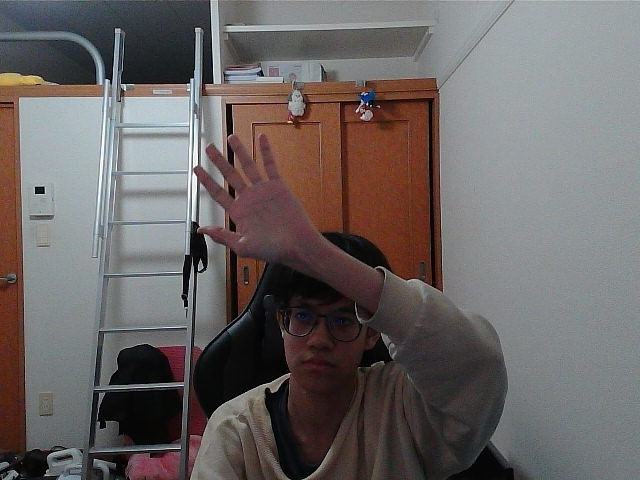open_palm: (199, 139, 293, 251)
